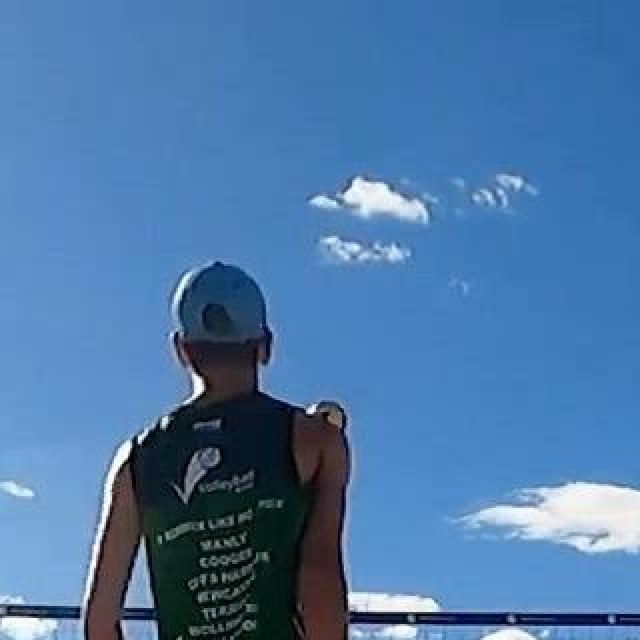volleyball: (301, 400, 349, 442)
